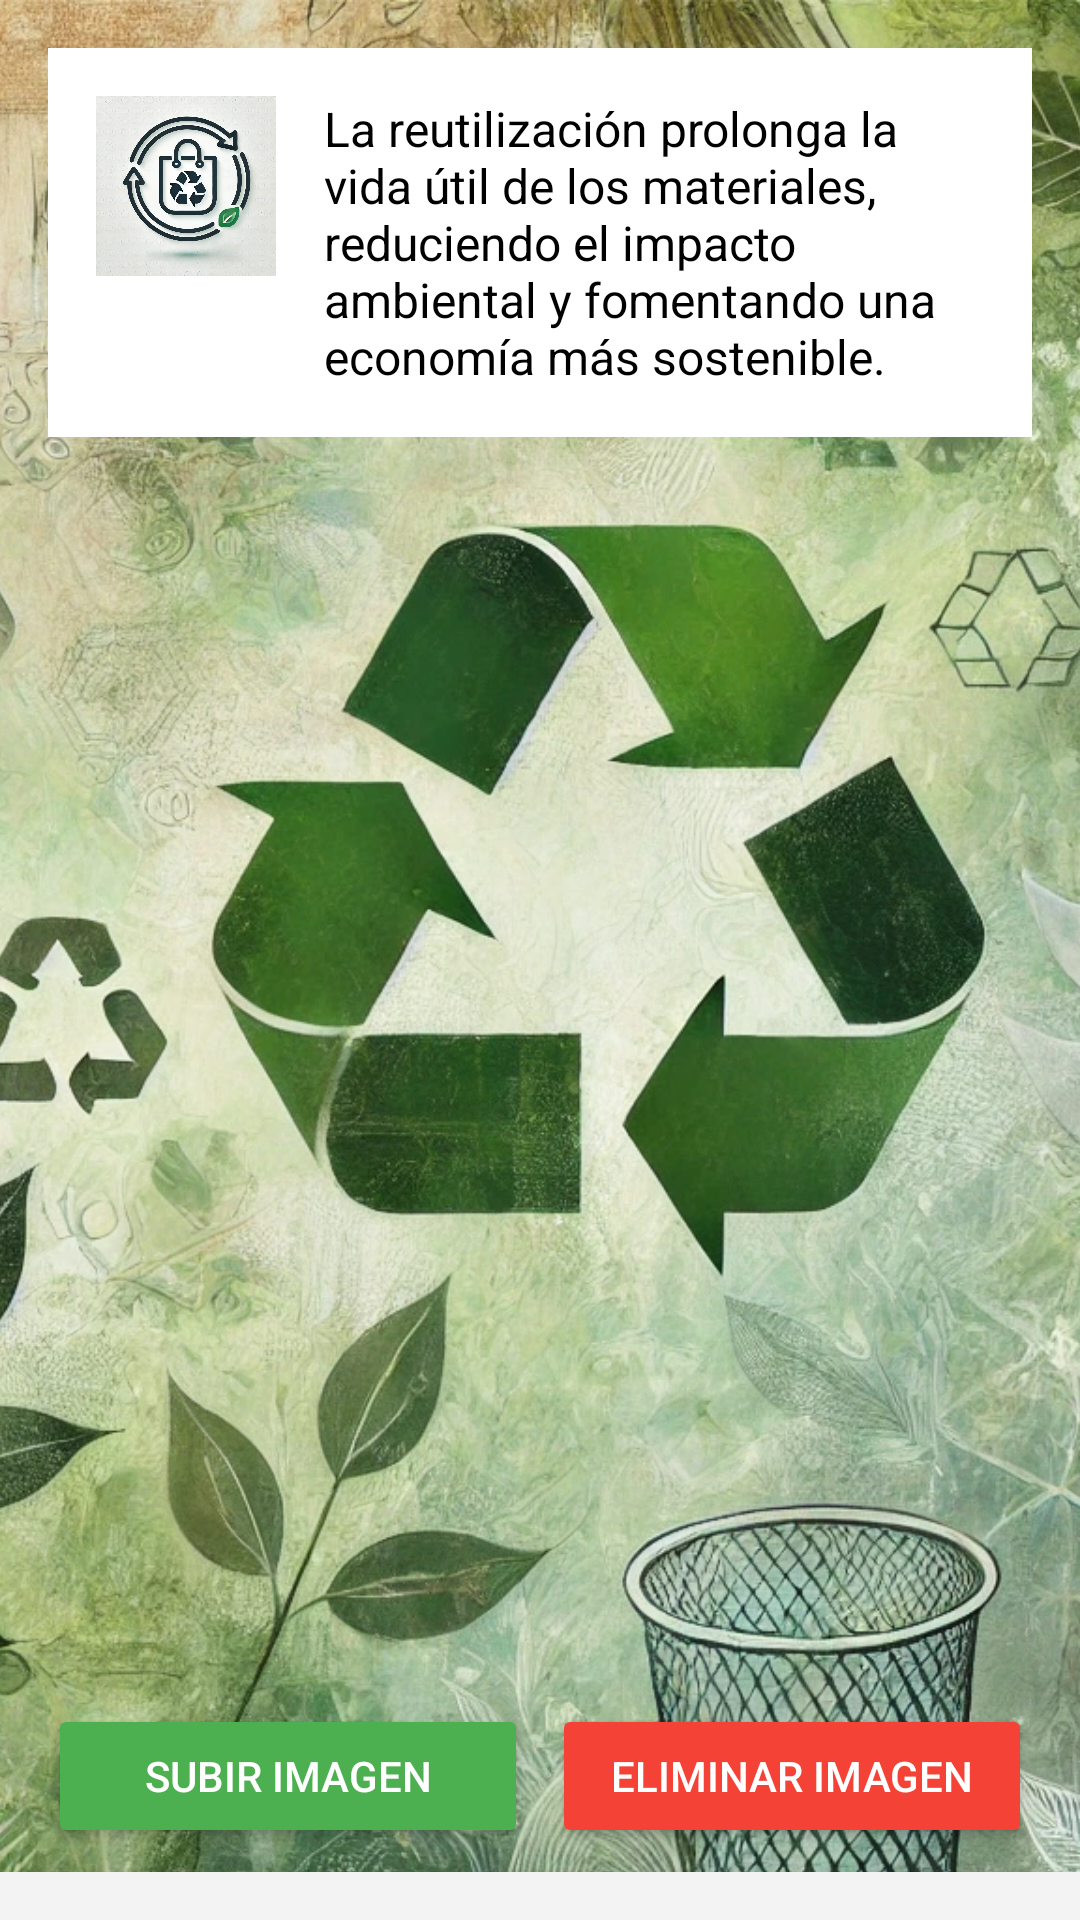

Where to tap for icons on this 1080w x 1920h app screen, as (x,y):
Icono de reutilización: (186,186)
